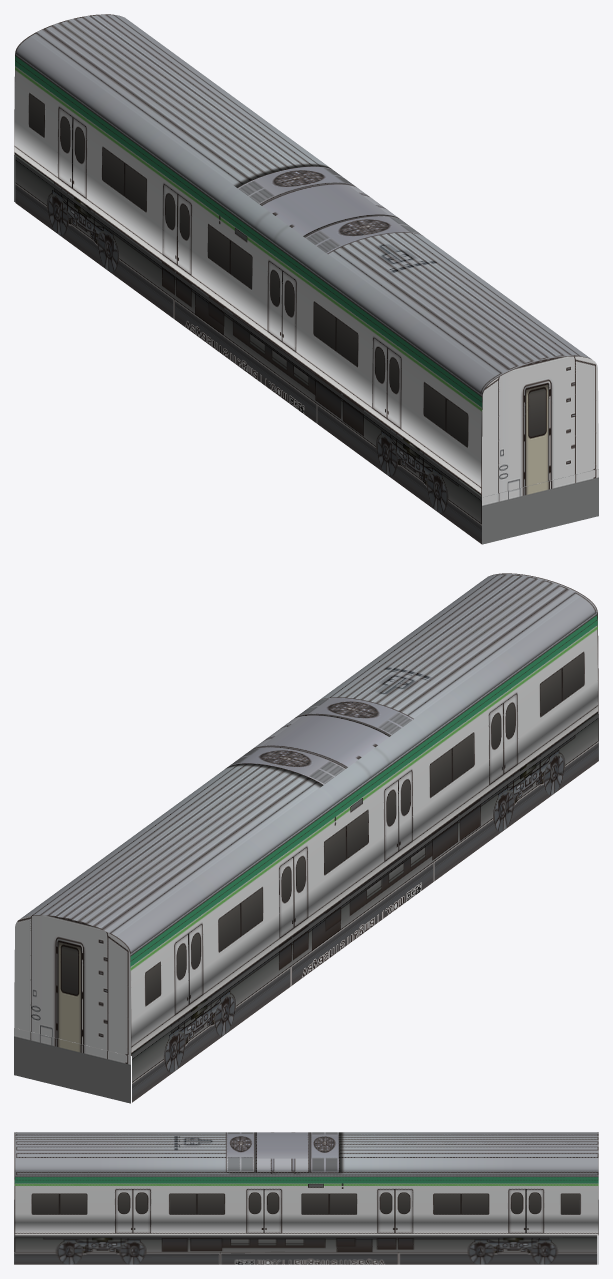
The model's file is car2.glb.
3 renders of one model, top to bottom at view 1: azimuth 30°, elevation 25°; view 2: azimuth 150°, elevation 25°; view 3: azimuth 270°, elevation 25°, orthographic. The views are drawn at different scales.
Visible parts, largest first — view 1: sendai-sub-3000-car2; view 2: sendai-sub-3000-car2; view 3: sendai-sub-3000-car2.
Part boxes in pixels (x1,y1,x2,y2): sendai-sub-3000-car2: (14, 14, 598, 544); sendai-sub-3000-car2: (14, 573, 598, 1103); sendai-sub-3000-car2: (14, 1132, 598, 1264).
Size of the model in its own units: 2.89 by 3.99 by 20.03.
Materials: 9 (8 with a texture image).
